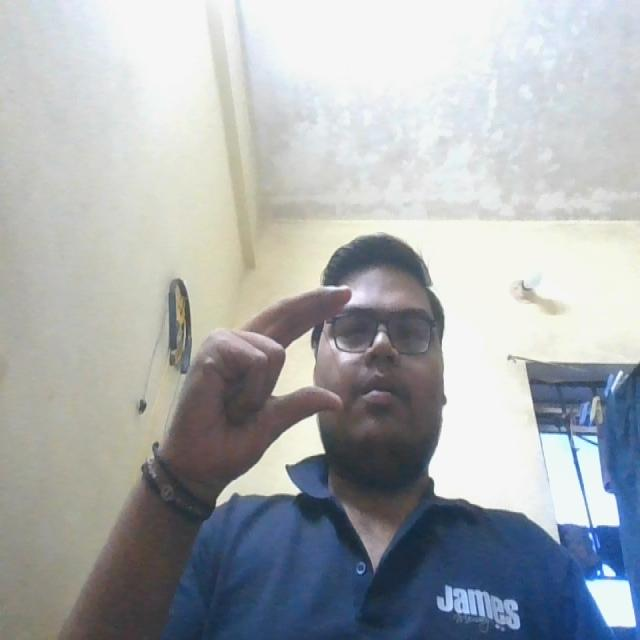No: (156, 274, 358, 466)
